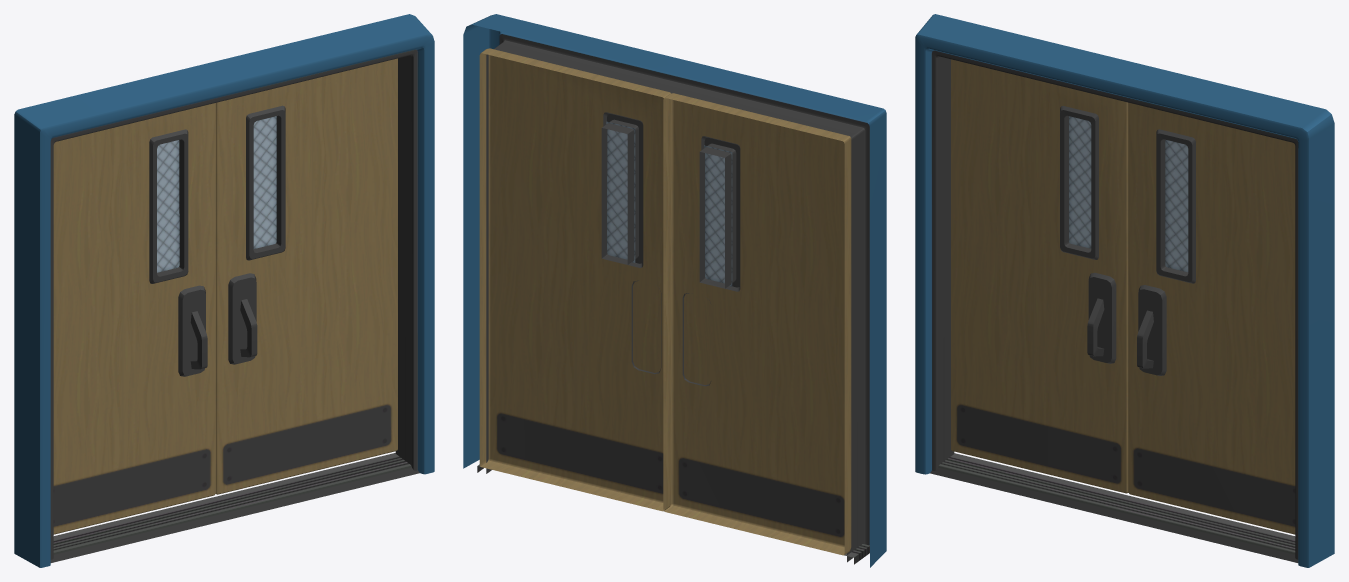
The model's file is activity door.glb.
3 renders of one model, left to right at view 1: azimuth 30°, elevation 25°; view 2: azimuth 150°, elevation 25°; view 3: azimuth 330°, elevation 25°, orthographic.
Visible parts, largest first — view 1: ActivityDoor_Left.001, ActivityDoor_Left, ActivityDoor_Frame; view 2: ActivityDoor_Left.001, ActivityDoor_Left, ActivityDoor_Frame; view 3: ActivityDoor_Left, ActivityDoor_Left.001, ActivityDoor_Frame.
Boxes of the visible parts, x1,y1,x2,y2 form: ActivityDoor_Left.001: (216, 58, 397, 494); ActivityDoor_Left: (53, 103, 215, 534); ActivityDoor_Frame: (14, 14, 434, 567); ActivityDoor_Left.001: (479, 48, 671, 511); ActivityDoor_Left: (663, 93, 851, 555); ActivityDoor_Frame: (463, 14, 886, 567); ActivityDoor_Left: (951, 59, 1128, 493); ActivityDoor_Left.001: (1128, 102, 1295, 534); ActivityDoor_Frame: (915, 14, 1334, 567).
Bounding box in the file's own units: 2.05 × 2.14 × 0.2348.
Materials: 2 (2 with a texture image).
